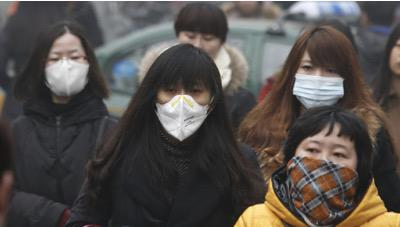with_mask: (291, 137, 360, 218), (154, 78, 211, 140), (289, 57, 346, 112), (42, 48, 89, 98)
without_mask: (179, 32, 218, 60)
